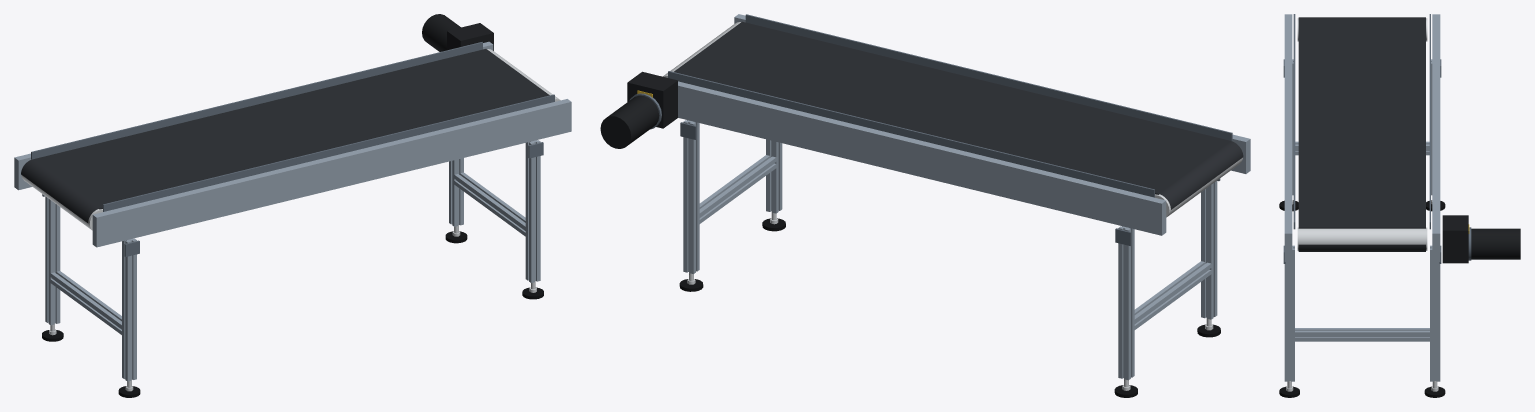
File: belt_conveyor_2m.glb
3 renders of one model, left to right at view 1: azimuth 30°, elevation 25°; view 2: azimuth 150°, elevation 25°; view 3: azimuth 270°, elevation 25°, orthographic. The views are drawn at different scales.
Visible parts, largest first — view 1: Belt_belt_pvc, Conveyor_Frame_alu_anodised, Conveyor_Frame_alu_dark, Drive_Motor_black_paint, Conveyor_Frame_steel_bright, Conveyor_Frame_rubber; view 2: Belt_belt_pvc, Conveyor_Frame_alu_anodised, Conveyor_Frame_alu_dark, Drive_Motor_black_paint, Conveyor_Frame_steel_bright, Conveyor_Frame_rubber; view 3: Belt_belt_pvc, Conveyor_Frame_alu_anodised, Drive_Motor_black_paint, Conveyor_Frame_steel_bright, Conveyor_Frame_alu_dark, Conveyor_Frame_rubber.
Part boxes in pixels (x1,y1,x2,y2): Belt_belt_pvc: (21,49,549,223); Conveyor_Frame_alu_anodised: (14,41,571,381); Conveyor_Frame_alu_dark: (31,42,554,256); Drive_Motor_black_paint: (422,14,493,51); Conveyor_Frame_steel_bright: (21,49,560,391); Conveyor_Frame_rubber: (42,231,543,397); Belt_belt_pvc: (674,21,1243,209); Conveyor_Frame_alu_anodised: (678,14,1250,380); Conveyor_Frame_alu_dark: (668,14,1232,245); Drive_Motor_black_paint: (600,71,677,148); Conveyor_Frame_steel_bright: (663,22,1242,390); Conveyor_Frame_rubber: (679,218,1220,397); Belt_belt_pvc: (1298,17,1425,251); Conveyor_Frame_alu_anodised: (1284,14,1440,381); Drive_Motor_black_paint: (1442,215,1520,263); Conveyor_Frame_steel_bright: (1286,18,1438,391); Conveyor_Frame_alu_dark: (1283,14,1441,263); Conveyor_Frame_rubber: (1279,200,1445,397).
Size of the model in its own units: 2.03 by 0.775 by 0.93.
